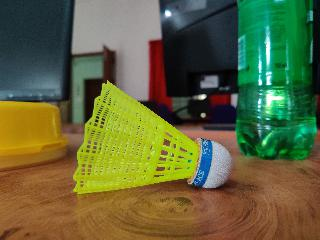shuttlecock: (72, 77, 232, 195)
